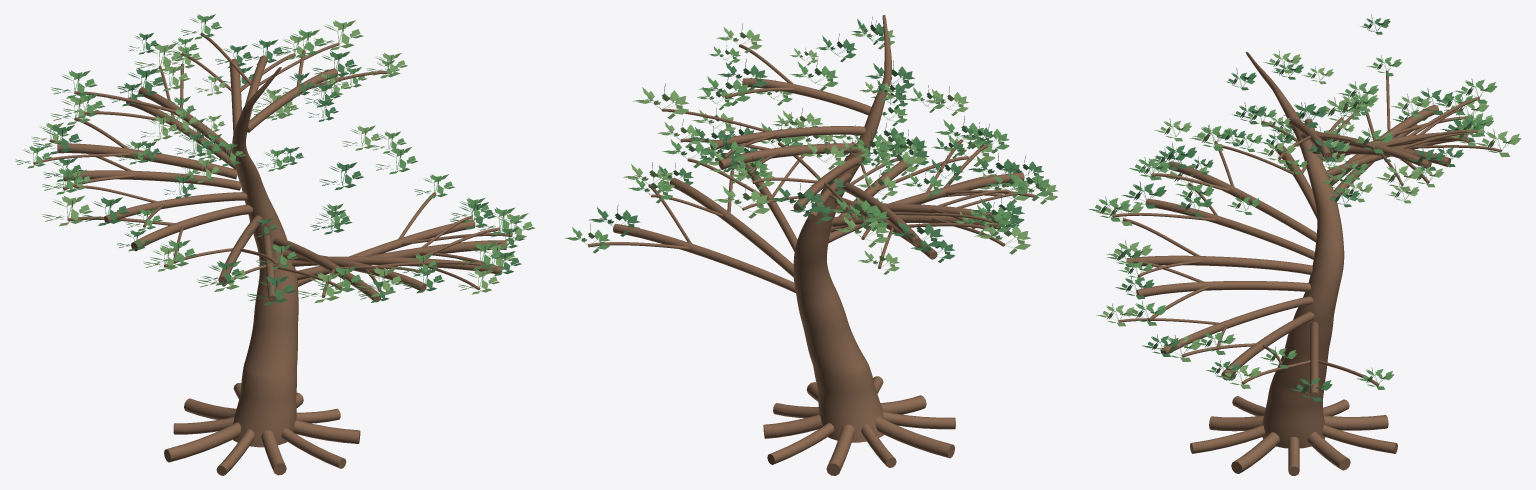
The picture shows the model from 3 angles, left to right: view 1: azimuth 30°, elevation 25°; view 2: azimuth 150°, elevation 25°; view 3: azimuth 270°, elevation 25°; orthographic projection. The views are drawn at different scales.
Parts seen in each view (by area): view 1: continuous massive tapered trunk geometry, primary limb 11 geometry, primary limb 10 geometry, primary limb 8 geometry, primary limb 2 geometry, primary limb 9 geometry, buttress root 6 geometry, primary limb 3 geometry, primary limb 1 geometry, primary limb 5 geometry, buttress root 2 geometry, primary limb 16 geometry (+11 smaller); view 2: continuous massive tapered trunk geometry, primary limb 1 geometry, overlapping branch-tip foliage geometry (×3), primary limb 2 geometry, primary limb 15 geometry, buttress root 6 geometry, primary limb 14 geometry, primary limb 16 geometry, primary limb 7 geometry, buttress root 10 geometry, buttress root 5 geometry, buttress root 9 geometry (+9 smaller); view 3: continuous massive tapered trunk geometry, primary limb 5 geometry, primary limb 4 geometry, primary limb 6 geometry, primary limb 7 geometry, primary limb 3 geometry, primary limb 2 geometry, buttress root 9 geometry, buttress root 3 geometry, buttress root 8 geometry, buttress root 2 geometry, primary limb 15 geometry (+8 smaller).
Boxes of the visible parts, box(x1,y1,x2,y2) form: continuous massive tapered trunk geometry: box(232, 67, 298, 447); primary limb 11 geometry: box(57, 143, 237, 179); primary limb 10 geometry: box(63, 170, 241, 190); primary limb 8 geometry: box(131, 204, 253, 251); primary limb 2 geometry: box(296, 240, 506, 280); primary limb 9 geometry: box(104, 192, 247, 223); buttress root 6 geometry: box(164, 422, 241, 462); primary limb 3 geometry: box(291, 256, 501, 273); primary limb 1 geometry: box(297, 219, 475, 286); primary limb 5 geometry: box(273, 237, 381, 301); buttress root 2 geometry: box(293, 420, 360, 443); primary limb 16 geometry: box(247, 68, 338, 132); continuous massive tapered trunk geometry: box(793, 15, 891, 442); primary limb 1 geometry: box(613, 224, 795, 292); overlapping branch-tip foliage geometry (×3): box(633, 83, 943, 251); primary limb 2 geometry: box(669, 177, 793, 277); primary limb 15 geometry: box(710, 126, 865, 149); buttress root 6 geometry: box(875, 416, 954, 458); primary limb 14 geometry: box(718, 143, 860, 169); primary limb 16 geometry: box(742, 78, 871, 115); primary limb 7 geometry: box(830, 172, 1024, 232); buttress root 10 geometry: box(763, 414, 821, 438); buttress root 5 geometry: box(883, 411, 955, 429); buttress root 9 geometry: box(767, 423, 834, 464); continuous massive tapered trunk geometry: box(1245, 51, 1344, 448); primary limb 5 geometry: box(1126, 255, 1312, 274); primary limb 4 geometry: box(1136, 281, 1310, 297); primary limb 6 geometry: box(1145, 198, 1314, 259); primary limb 7 geometry: box(1168, 161, 1316, 242); primary limb 3 geometry: box(1160, 296, 1313, 353); primary limb 2 geometry: box(1221, 311, 1314, 379); buttress root 9 geometry: box(1322, 424, 1397, 453); buttress root 3 geometry: box(1190, 425, 1264, 453); buttress root 8 geometry: box(1323, 415, 1388, 430); buttress root 2 geometry: box(1231, 432, 1279, 473); primary limb 15 geometry: box(1301, 131, 1431, 168).
Bounding box in the file's own units: 99.69 × 84.06 × 84.81.
